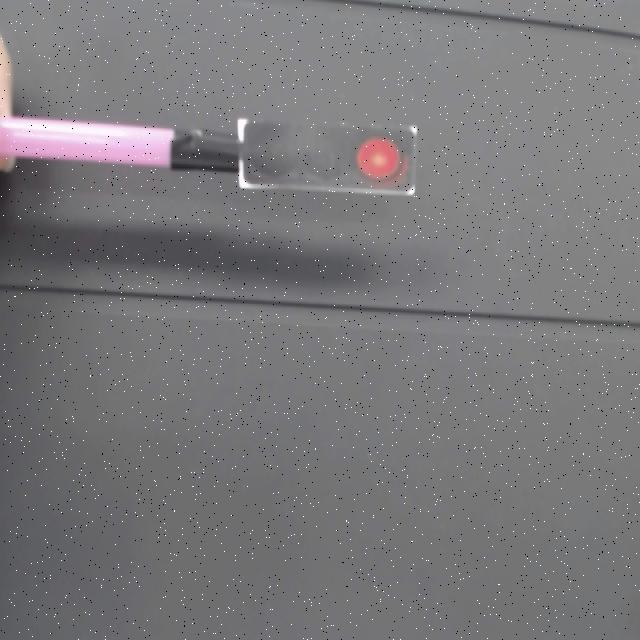traffic light: (237, 119, 418, 200)
